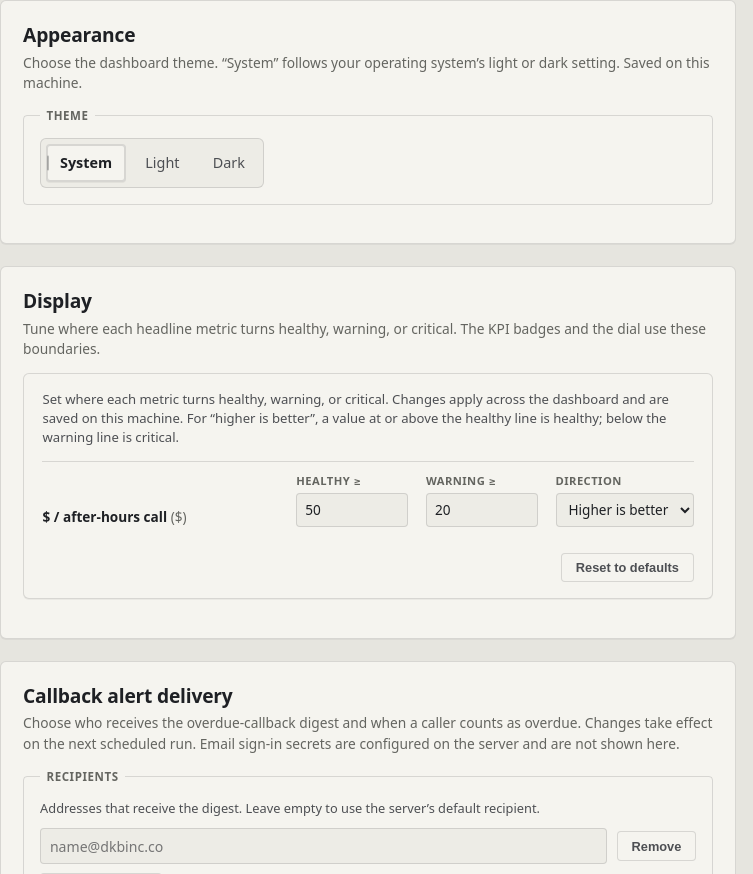
Test case: SettingsPage — Alerts (host build) › blocks saving a malformed email
Type "not-an-email" into the field named "Recipient 1".
click(324, 846); type("not-an-email")  # box [40,828,607,864]
(page scrolled)
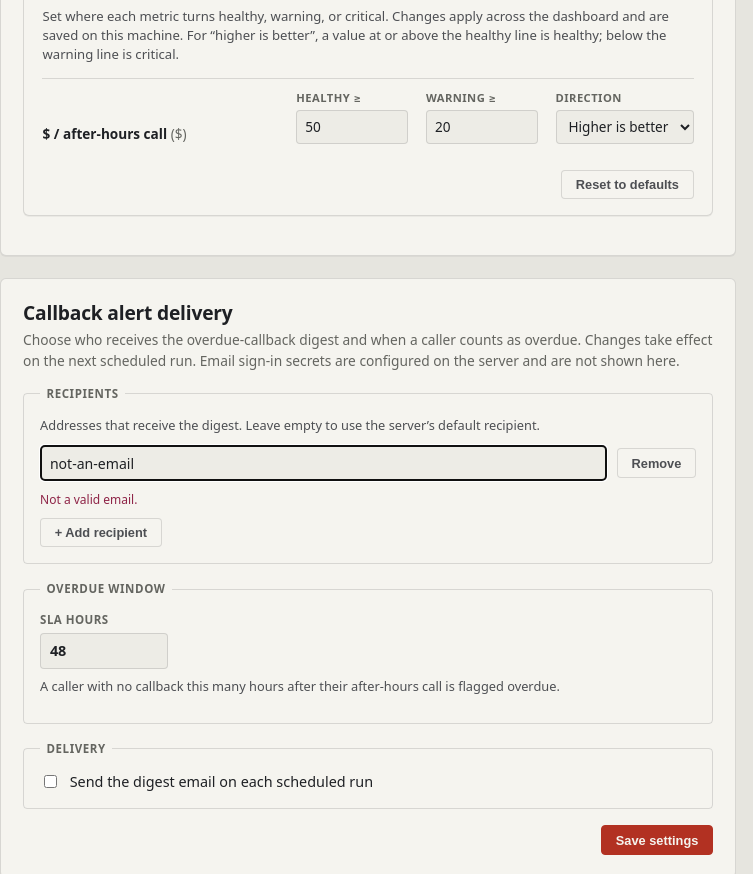
Result: the text "Not a valid email." is shown at [40,491,137,508]
Result: the button "Save settings" is disabled at [601,825,713,855]
